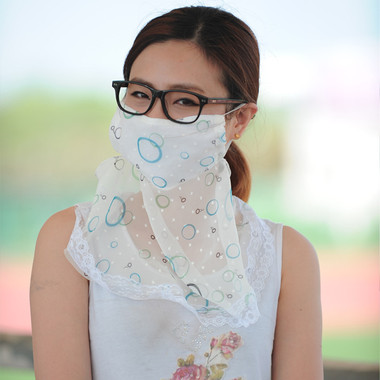face_mask: (121, 40, 229, 183)
